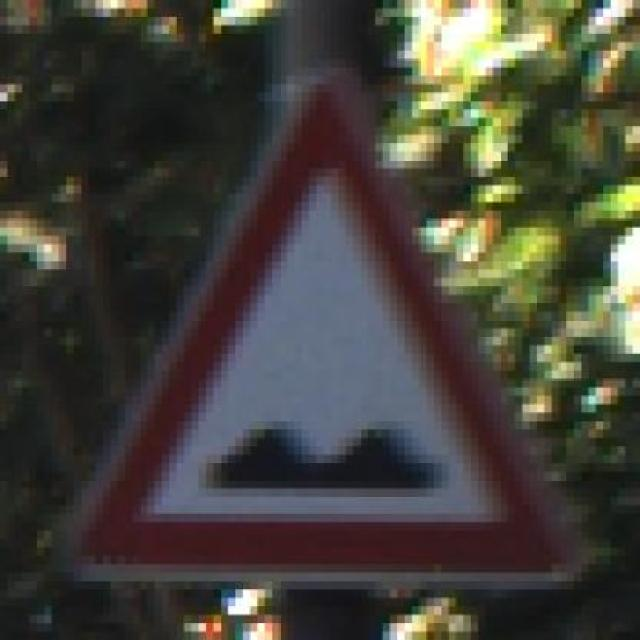Uneven Road: (44, 67, 581, 590)
